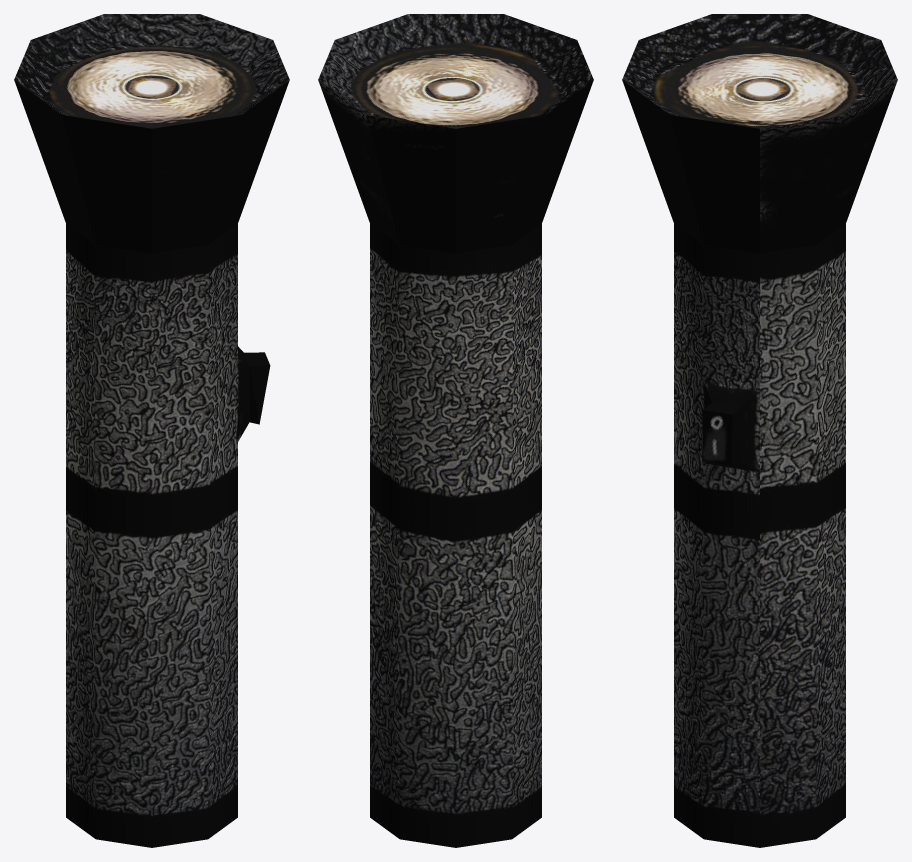
File: Linterna.FBX
The picture shows the model from 3 angles, left to right: view 1: azimuth 30°, elevation 25°; view 2: azimuth 150°, elevation 25°; view 3: azimuth 270°, elevation 25°; orthographic projection.
Visible parts, largest first — view 1: Cylinder001; view 2: Cylinder001; view 3: Cylinder001.
Part boxes in pixels (<box>): Cylinder001: <box>14,14,289,847</box>; Cylinder001: <box>318,14,593,847</box>; Cylinder001: <box>622,14,897,847</box>.
Bounding box in the file's own units: 6.21 × 18.71 × 6.31.
